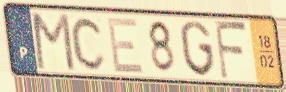8: (147, 19, 177, 76)
C: (69, 14, 108, 72)
E: (105, 16, 146, 76)
F: (212, 18, 250, 83)
G: (178, 19, 217, 79)
M: (31, 10, 77, 73)
